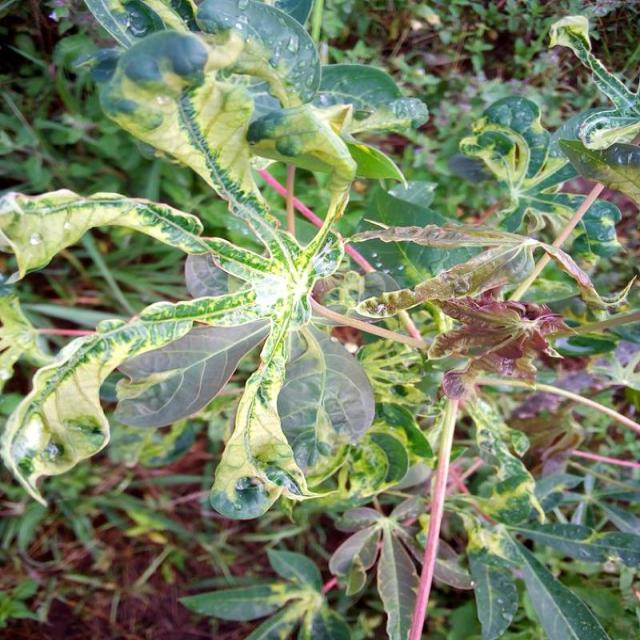cassava leaf: (2, 0, 433, 521)
